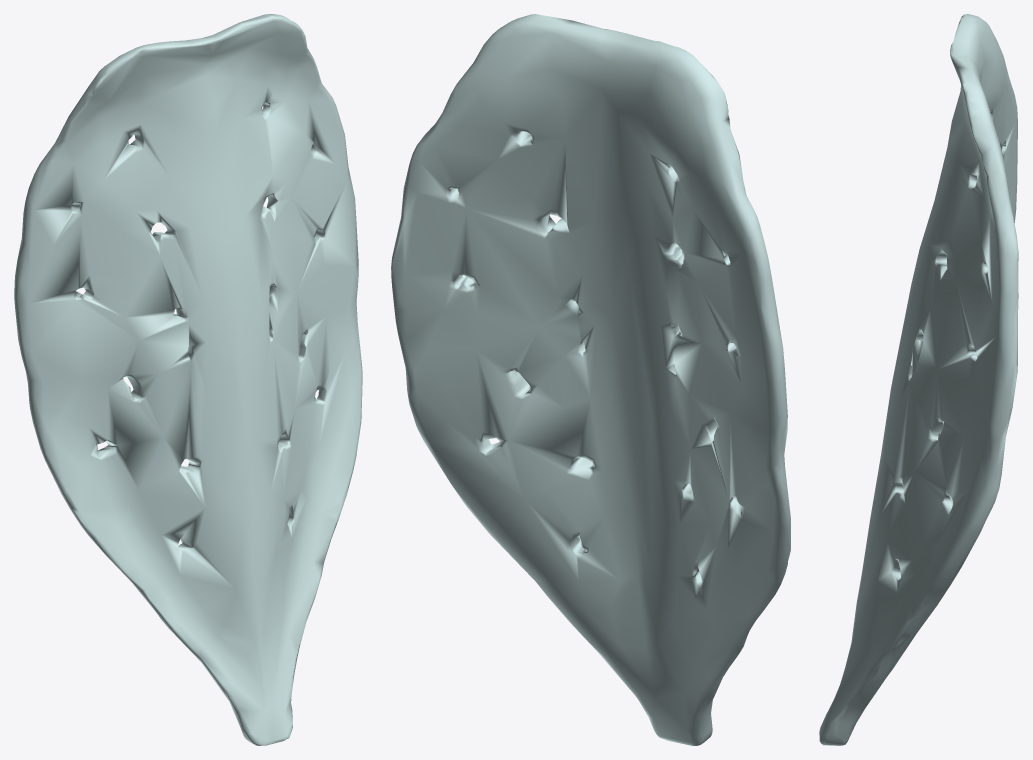
File: Epiglottis.glb
3 views of the same model, side by side, from view 1: azimuth 30°, elevation 25°; view 2: azimuth 150°, elevation 25°; view 3: azimuth 270°, elevation 25° (orthographic). The views are drawn at different scales.
Parts seen in each view (by area): view 1: Epiglottis_grp1.376; view 2: Epiglottis_grp1.376; view 3: Epiglottis_grp1.376.
Boxes of the visible parts, x1,y1,x2,y2 form: Epiglottis_grp1.376: (14, 14, 362, 745); Epiglottis_grp1.376: (391, 14, 790, 745); Epiglottis_grp1.376: (819, 14, 1018, 745).
Bounding box in the file's own units: 0.0158 × 0.0295 × 0.00769.
